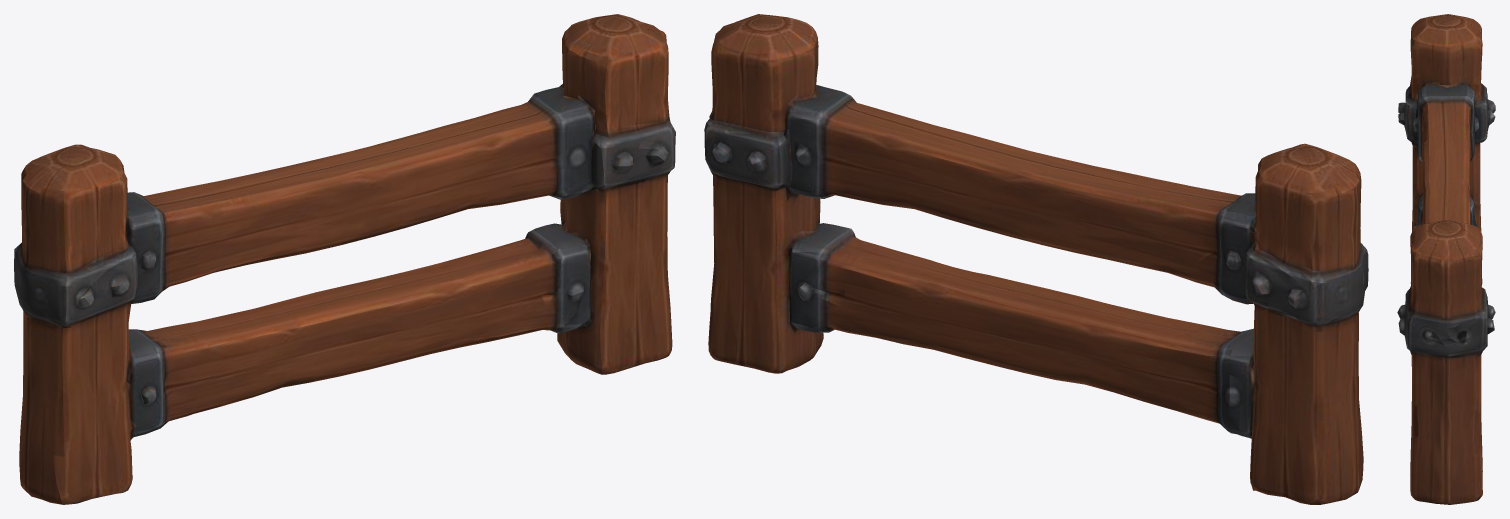
3 views of the same model, side by side, from view 1: azimuth 30°, elevation 25°; view 2: azimuth 150°, elevation 25°; view 3: azimuth 270°, elevation 25° (orthographic). The views are drawn at different scales.
Visible parts, largest first — view 1: Mesh0; view 2: Mesh0; view 3: Mesh0.
Part boxes in pixels (x1=…): Mesh0: x1=14, y1=14, x2=675, y2=504; Mesh0: x1=704, y1=14, x2=1368, y2=504; Mesh0: x1=1397, y1=14, x2=1495, y2=504.
Bounding box in the file's own units: 1.9 × 0.94 × 0.3194.
1 material, 1 textured.
